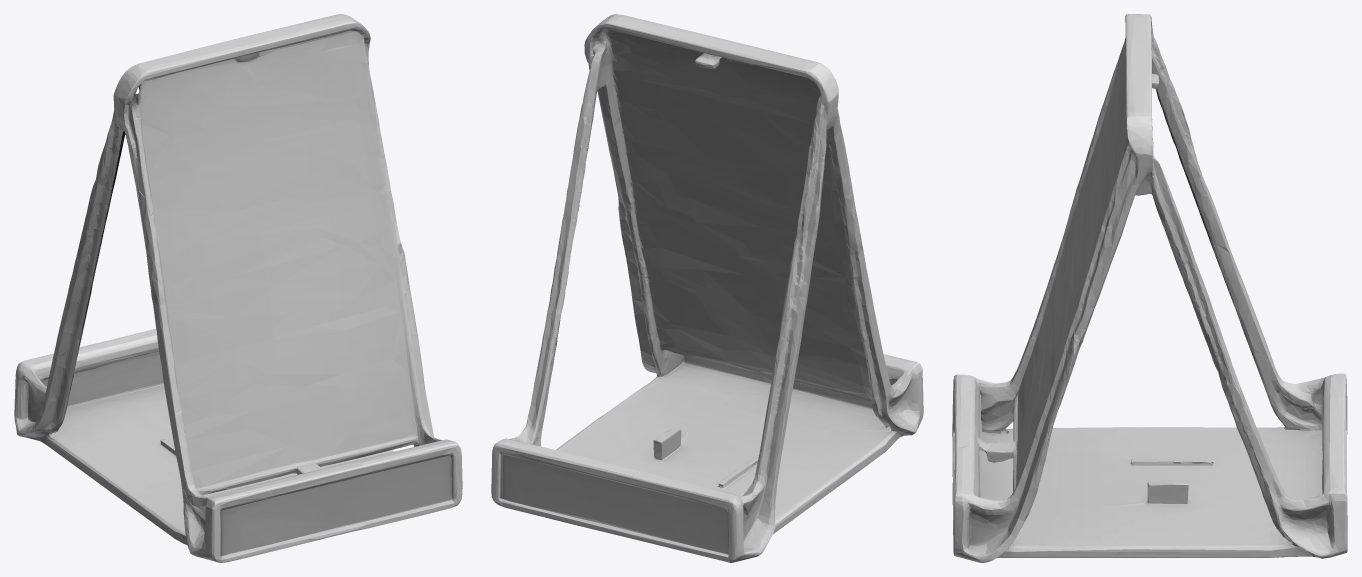
Rendered from sign_aframe_white.glb.
3 renders of one model, left to right at view 1: azimuth 30°, elevation 25°; view 2: azimuth 150°, elevation 25°; view 3: azimuth 270°, elevation 25°, orthographic. The views are drawn at different scales.
Parts seen in each view (by area): view 1: geometry_0; view 2: geometry_0; view 3: geometry_0.
Part boxes in pixels (<box>): geometry_0: <box>14,14,462,562</box>; geometry_0: <box>491,14,923,562</box>; geometry_0: <box>952,14,1347,562</box>.
Size of the model in its own units: 0.6715 by 0.9955 by 0.8246.
1 material, 1 textured.
